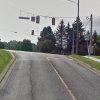Tree: (35, 24, 93, 54)
